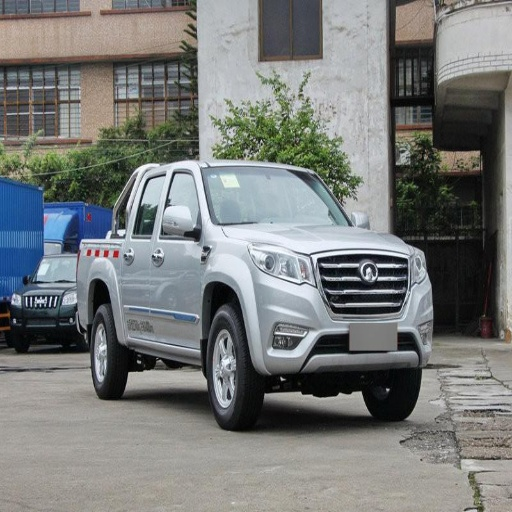front_bumper: (241, 252, 435, 373)
front_right_door: (154, 167, 205, 346)
front_right_light: (250, 245, 311, 282)
trunk: (33, 240, 118, 331)
